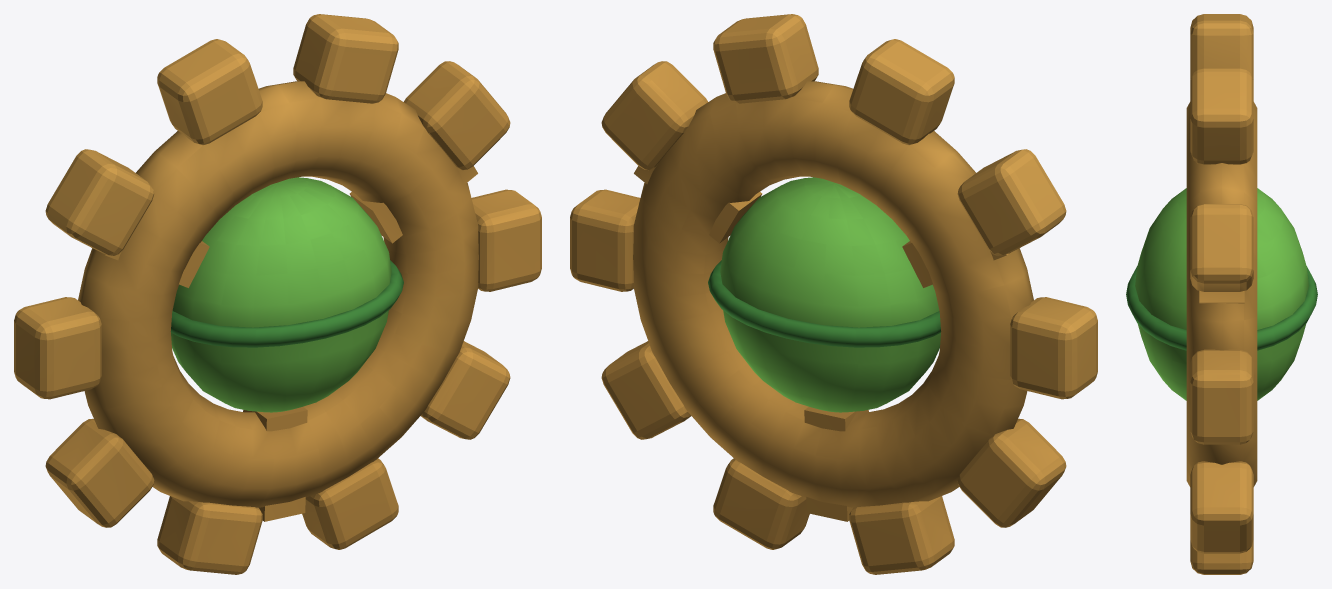
Rendered from col_sprocket.glb.
3 renders of one model, left to right at view 1: azimuth 30°, elevation 25°; view 2: azimuth 150°, elevation 25°; view 3: azimuth 270°, elevation 25°, orthographic. The views are drawn at different scales.
Visible parts, largest first — view 1: col_sprocket; view 2: col_sprocket; view 3: col_sprocket.
Boxes of the visible parts, x1,y1,x2,y2 form: col_sprocket: [14, 14, 541, 574]; col_sprocket: [570, 14, 1097, 574]; col_sprocket: [1126, 14, 1317, 574].
Size of the model in its own units: 0.5599 by 0.55 by 0.1924.
